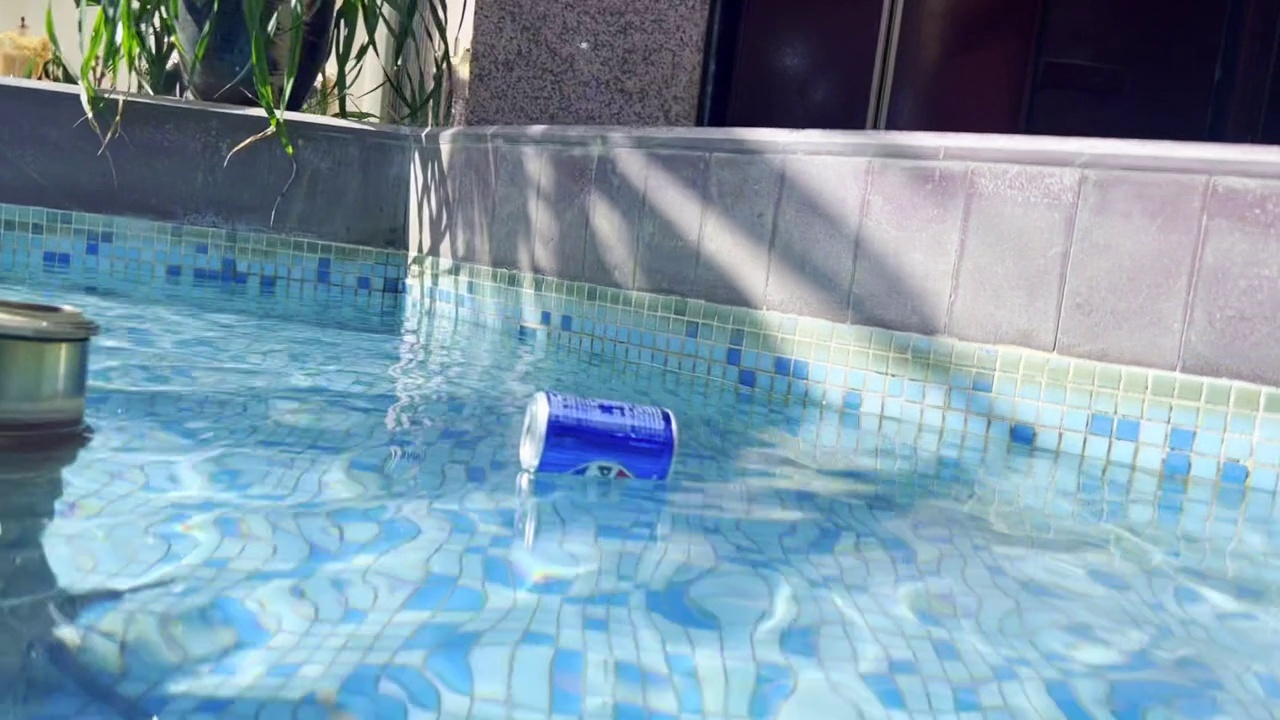debris: (512, 380, 689, 501)
